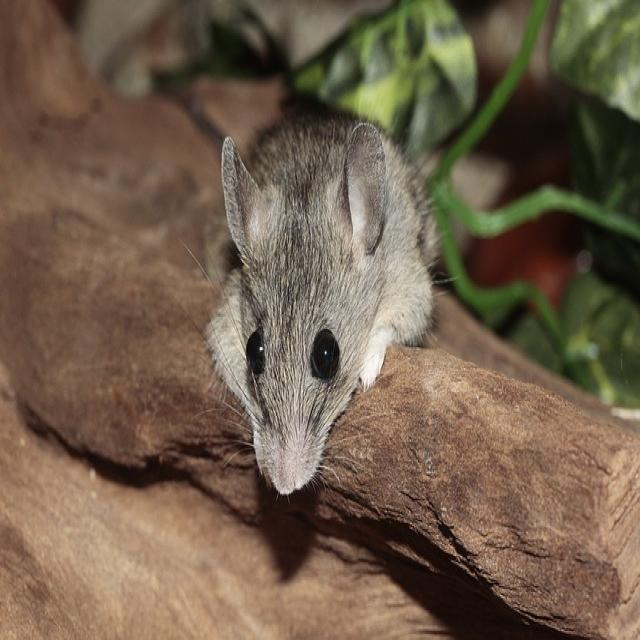rat: (168, 90, 474, 515)
